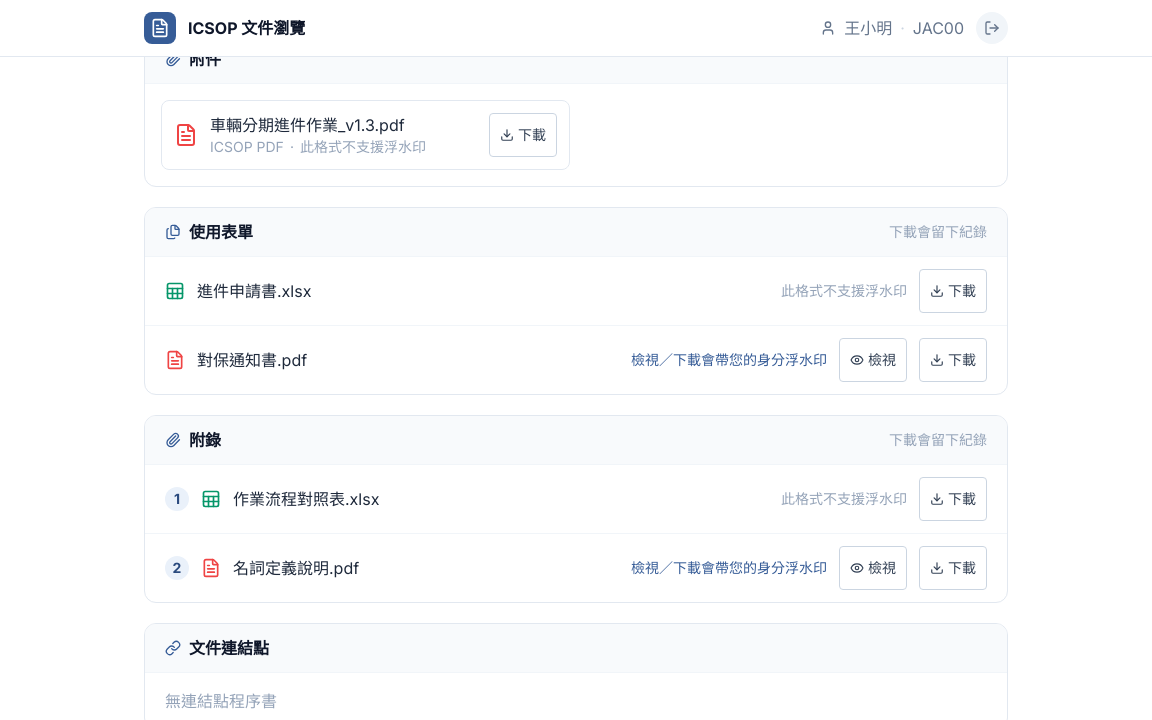
Scenario: 前台使用表單／附錄之 PDF 檢視（AC-FV1／AC-FV2） › 檢視失敗 ⇒ 顯示「檢視失敗，請稍後再試。」
This screenshot has width=1152, height=720.
(page scrolled)
Expected: the text "對保通知書.pdf" is shown, [197, 350, 307, 370]
Click the button with aria-label "檢視「對保通知書.pdf」". click: [873, 360]
box: [839, 338, 907, 382]
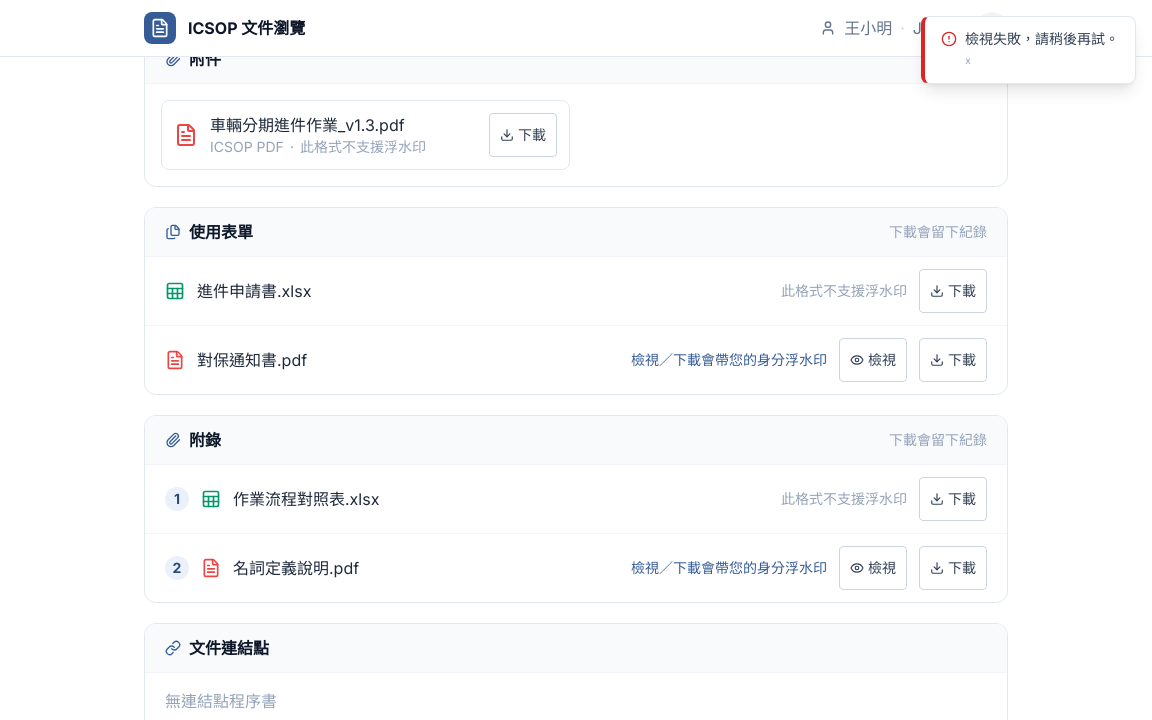
Expected: the text "檢視失敗，請稍後再試。" is shown, [965, 30, 1119, 47]
